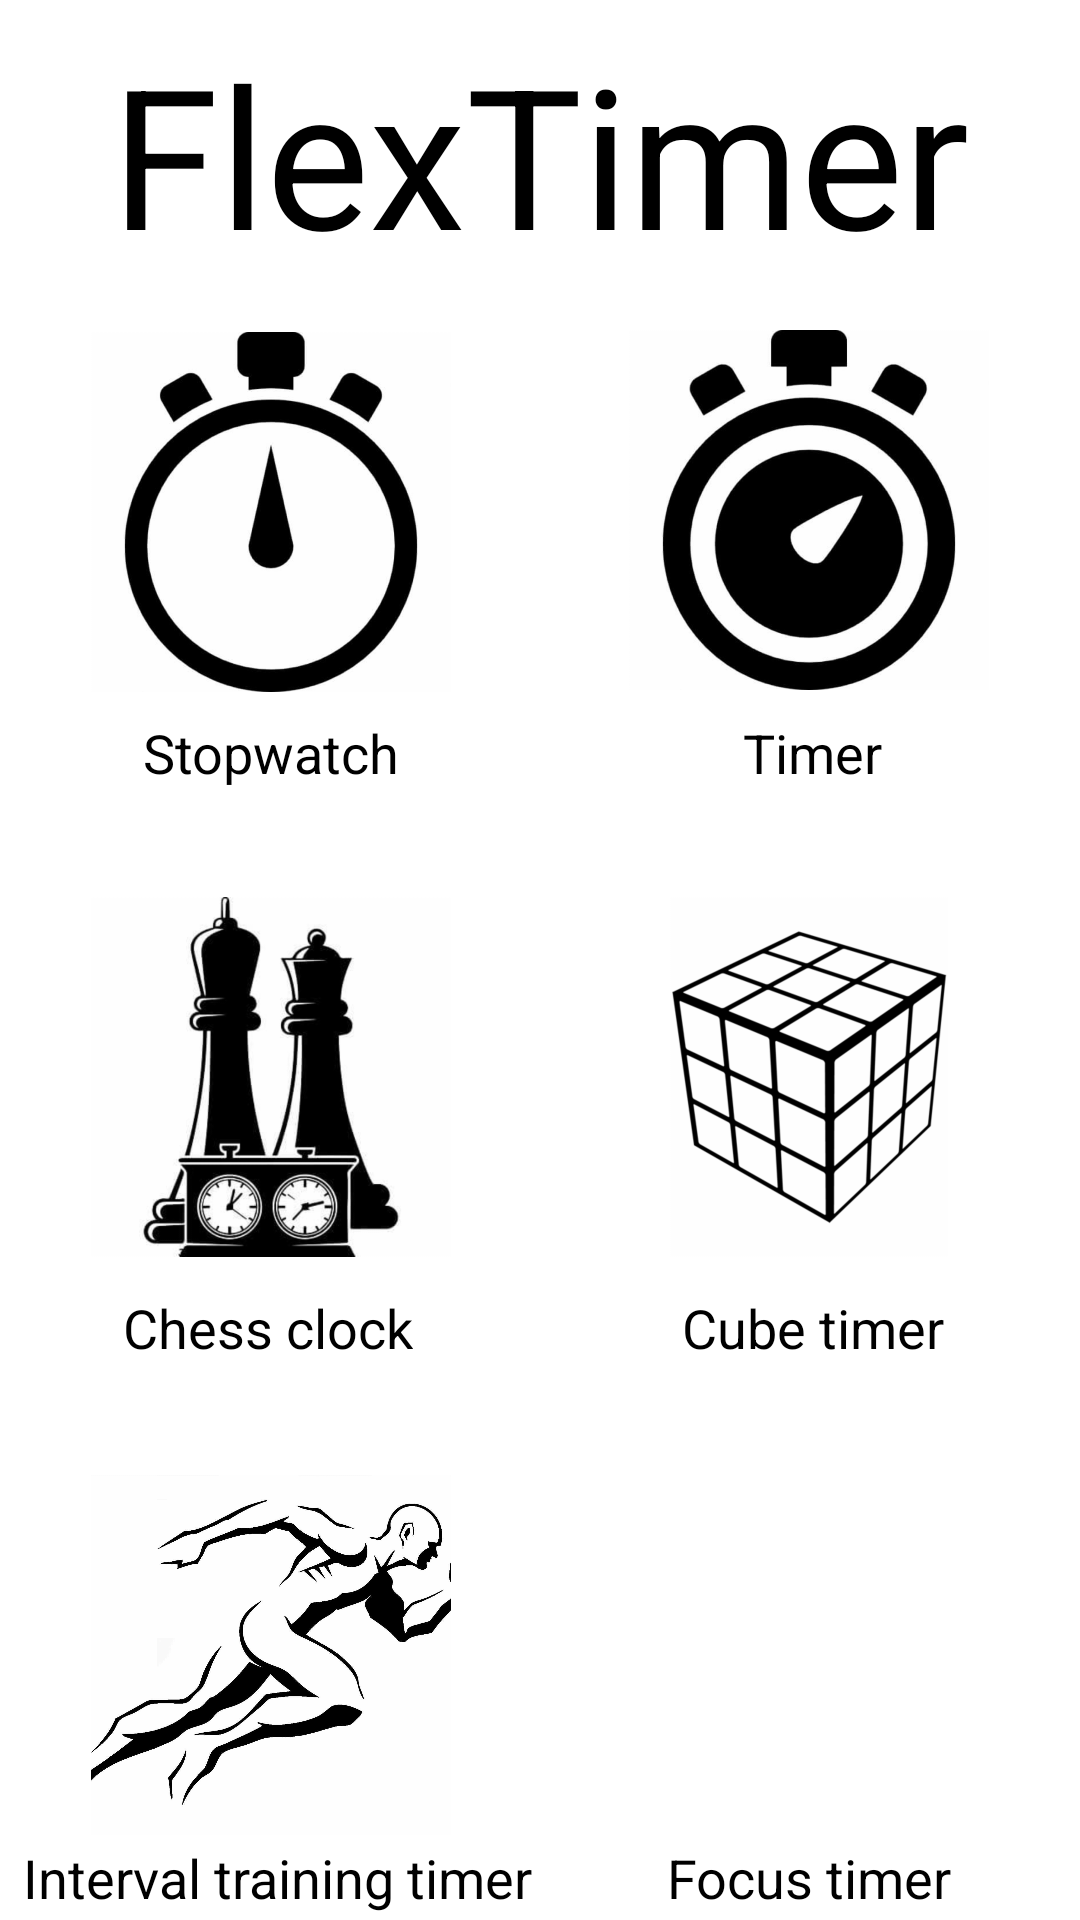

Named icons in this screenshot (1080*1920) and their centers, (x=x, y=y):
rubik: (x=809, y=1077)
running: (x=271, y=1652)
